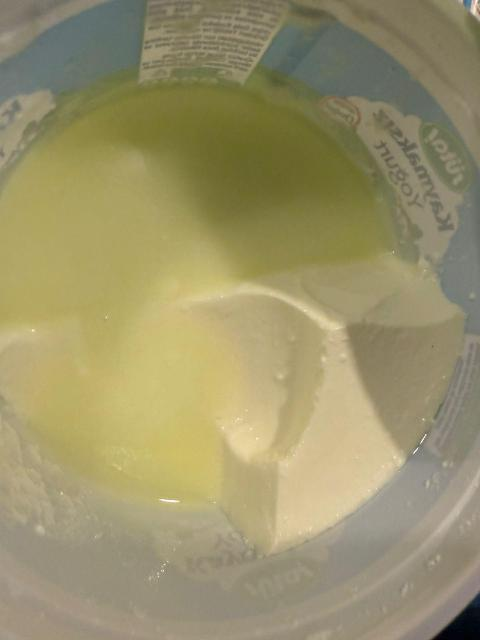Organik: (184, 288, 424, 525)
